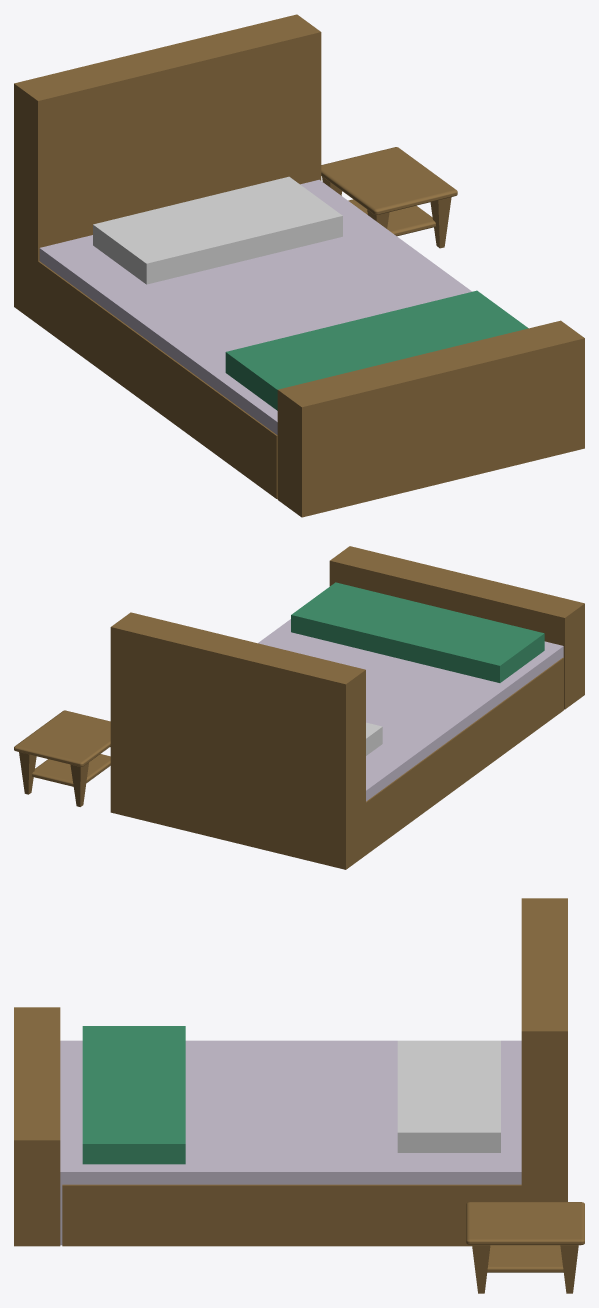
File: Exquisite Robo-Wolt.glb
3 views of the same model, one above another, from view 1: azimuth 30°, elevation 25°; view 2: azimuth 150°, elevation 25°; view 3: azimuth 270°, elevation 25° (orthographic). The views are drawn at different scales.
Visible parts, largest first — view 1: Mesh_Mesh_head_geo.001_lambert2SG.001; view 2: Mesh_Mesh_head_geo.001_lambert2SG.001; view 3: Mesh_Mesh_head_geo.001_lambert2SG.001.
Part boxes in pixels (left/top/right/bottom): Mesh_Mesh_head_geo.001_lambert2SG.001: left=14, top=14, right=584, bottom=517; Mesh_Mesh_head_geo.001_lambert2SG.001: left=14, top=546, right=584, bottom=869; Mesh_Mesh_head_geo.001_lambert2SG.001: left=14, top=898, right=584, bottom=1293.
Bounding box in the file's own units: 0.0845 × 0.046 × 0.1107.
